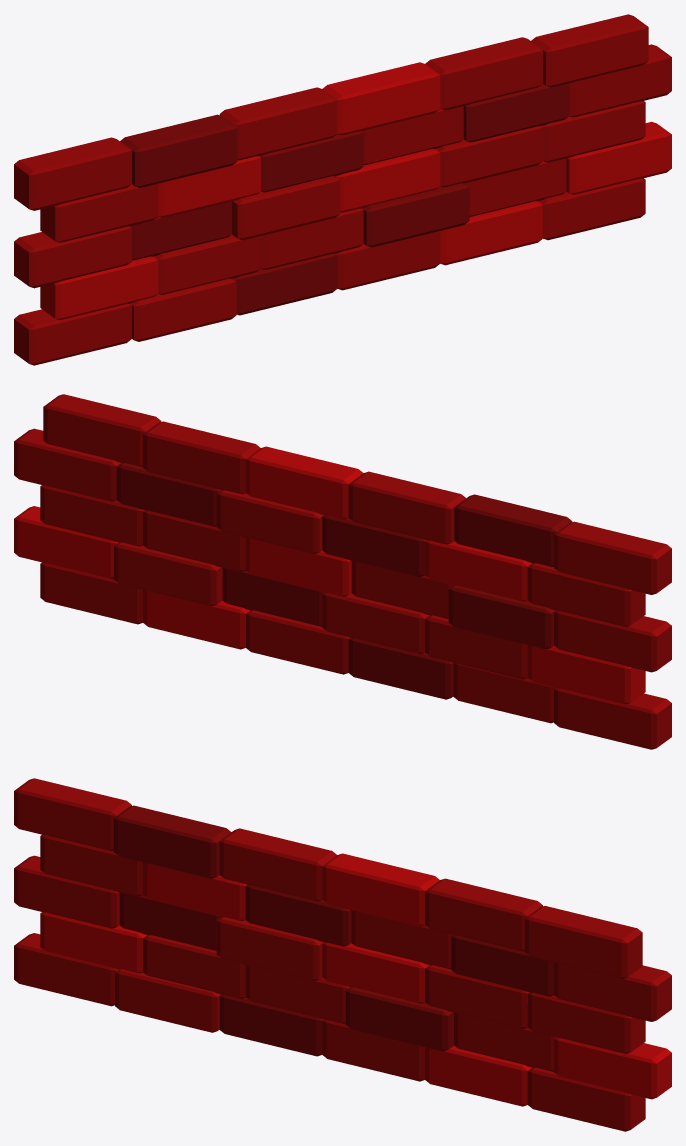
File: paredTpMeI3d.fbx
The picture shows the model from 3 angles, top to bottom: view 1: azimuth 30°, elevation 25°; view 2: azimuth 150°, elevation 25°; view 3: azimuth 330°, elevation 25°; orthographic projection.
Visible parts, largest first — view 1: Cube.030, Cube.025, Cube.029, Cube.027, Cube.026, Cube.028, Cube.006, Cube.018, Cube.015, Cube.012, Cube.009, Cube.024 (+18 smaller); view 2: Cube.030, Cube.028, Cube.027, Cube.026, Cube.029, Cube.025, Cube.006, Cube.018, Cube.008, Cube.019, Cube.024, Cube.021 (+18 smaller); view 3: Cube.025, Cube.029, Cube.028, Cube.027, Cube.026, Cube.030, Cube.007, Cube.019, Cube.009, Cube.001, Cube.015, Cube.013 (+18 smaller).
Boxes of the visible parts, x1=… form: Cube.030: x1=14, y1=137, x2=131, y2=210; Cube.025: x1=531, y1=14, x2=648, y2=87; Cube.029: x1=120, y1=114, x2=237, y2=187; Cube.027: x1=322, y1=62, x2=440, y2=135; Cube.026: x1=425, y1=37, x2=542, y2=110; Cube.028: x1=219, y1=87, x2=337, y2=160; Cube.006: x1=14, y1=303, x2=131, y2=365; Cube.018: x1=14, y1=226, x2=131, y2=288; Cube.015: x1=232, y1=176, x2=340, y2=240; Cube.012: x1=40, y1=256, x2=158, y2=319; Cube.009: x1=362, y1=183, x2=469, y2=247; Cube.024: x1=40, y1=183, x2=158, y2=242; Cube.030: x1=554, y1=521, x2=671, y2=594; Cube.028: x1=348, y1=471, x2=465, y2=544; Cube.027: x1=245, y1=446, x2=363, y2=519; Cube.026: x1=143, y1=421, x2=260, y2=494; Cube.029: x1=454, y1=494, x2=572, y2=566; Cube.025: x1=43, y1=394, x2=161, y2=466; Cube.006: x1=554, y1=688, x2=671, y2=749; Cube.018: x1=554, y1=610, x2=671, y2=672; Cube.008: x1=114, y1=542, x2=222, y2=606; Cube.019: x1=14, y1=428, x2=121, y2=501; Cube.024: x1=527, y1=563, x2=645, y2=626; Cube.021: x1=216, y1=490, x2=323, y2=554; Cube.025: x1=524, y1=906, x2=642, y2=978; Cube.029: x1=113, y1=805, x2=231, y2=878; Cube.028: x1=219, y1=828, x2=336, y2=901; Cube.027: x1=322, y1=853, x2=439, y2=926; Cube.026: x1=425, y1=878, x2=542, y2=951; Cube.030: x1=14, y1=778, x2=131, y2=851; Cube.007: x1=554, y1=1037, x2=671, y2=1099; Cube.019: x1=554, y1=962, x2=671, y2=1021; Cube.009: x1=345, y1=987, x2=453, y2=1051; Cube.001: x1=527, y1=1067, x2=645, y2=1131; Cube.015: x1=216, y1=917, x2=323, y2=981; Cube.013: x1=527, y1=992, x2=645, y2=1053.
Size of the model in its own units: 400 by 116 by 24.44.
1 material, 1 textured.
